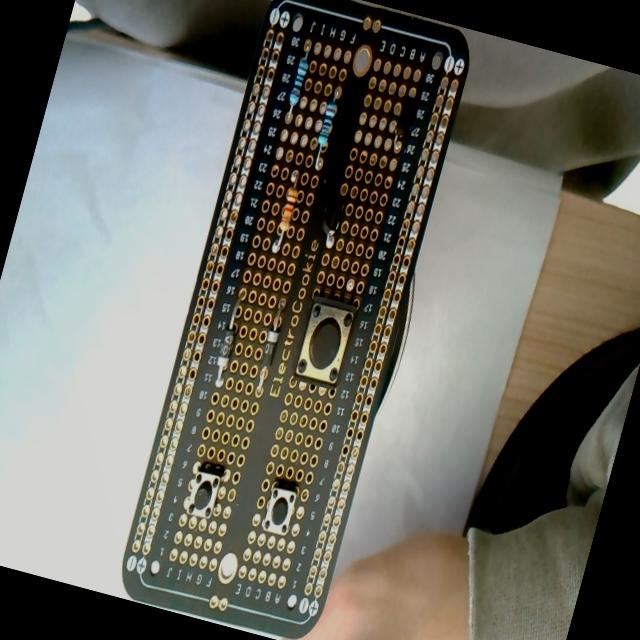diode: (210, 284, 250, 389), (251, 294, 289, 396)
resistor: (272, 164, 306, 244), (311, 92, 341, 164), (282, 49, 312, 121)
switch: (292, 295, 358, 389), (183, 460, 226, 522), (260, 478, 300, 536)
transistor: (312, 176, 356, 252), (386, 77, 427, 155)
